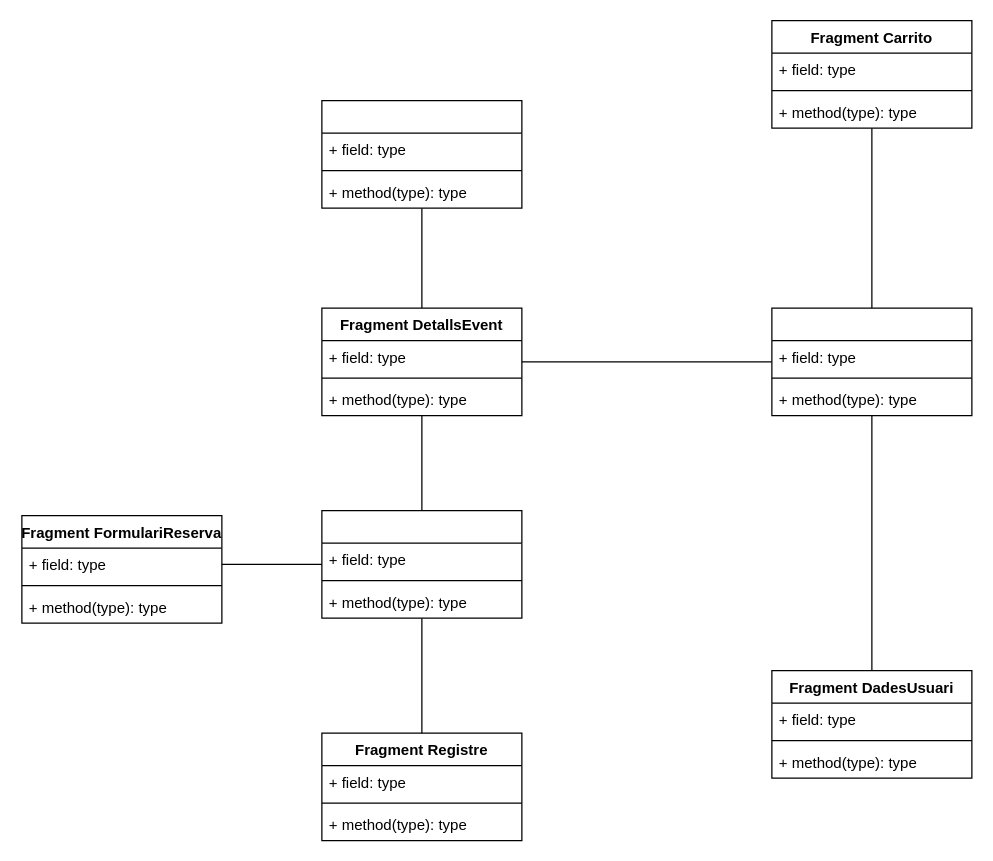
This 993x861 diagram has some shape labels left out. The box of each missing label's shape, as (x1, y1, x2, y2) in pixels:
Fragment Inici: (771, 307, 972, 416)
Fragment Login: (321, 509, 522, 618)
Opinions: (321, 99, 522, 208)
